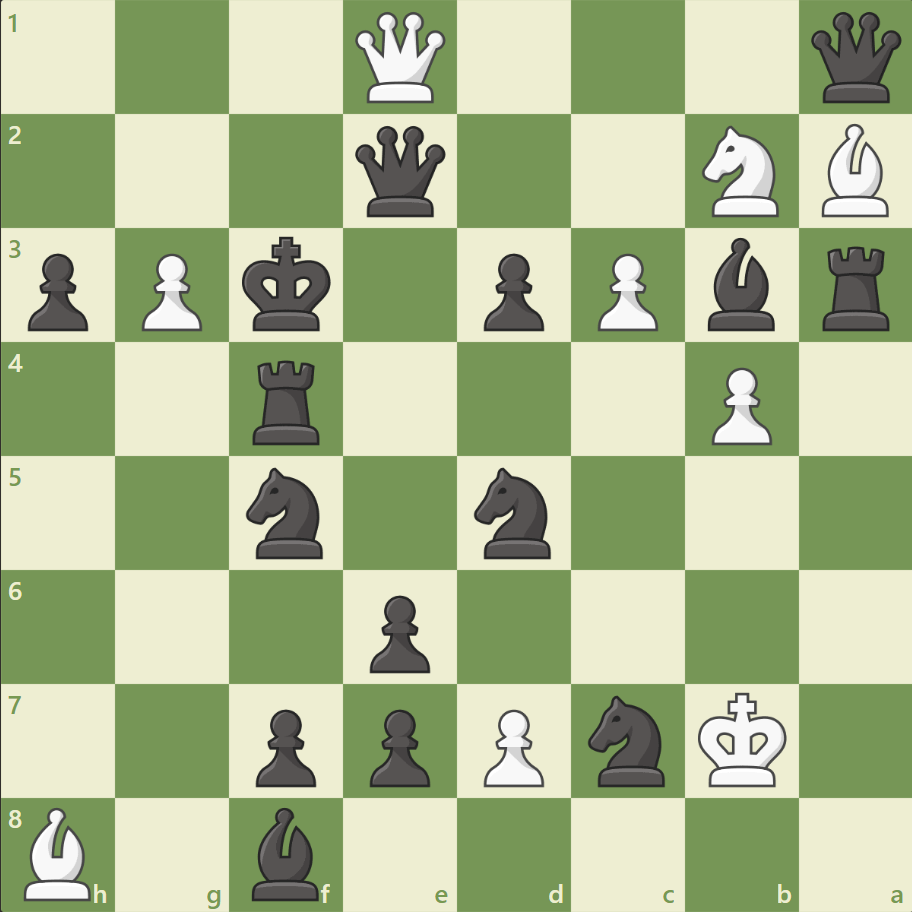B: (17, 801, 101, 904), (812, 120, 896, 222)
K: (692, 685, 792, 793)
N: (692, 121, 789, 223)
P: (474, 700, 549, 791), (701, 359, 776, 450), (133, 246, 208, 337), (588, 246, 662, 337)
Q: (351, 9, 450, 108)
b: (244, 801, 328, 904), (698, 233, 782, 336)
k: (238, 231, 338, 339)
n: (579, 688, 676, 791), (465, 461, 562, 564), (238, 461, 335, 564)
p: (247, 700, 322, 791), (474, 246, 549, 337), (20, 246, 95, 337), (361, 700, 435, 791), (361, 586, 435, 677)
q: (351, 122, 450, 222), (805, 9, 904, 108)
r: (246, 352, 329, 449), (814, 239, 897, 336)
